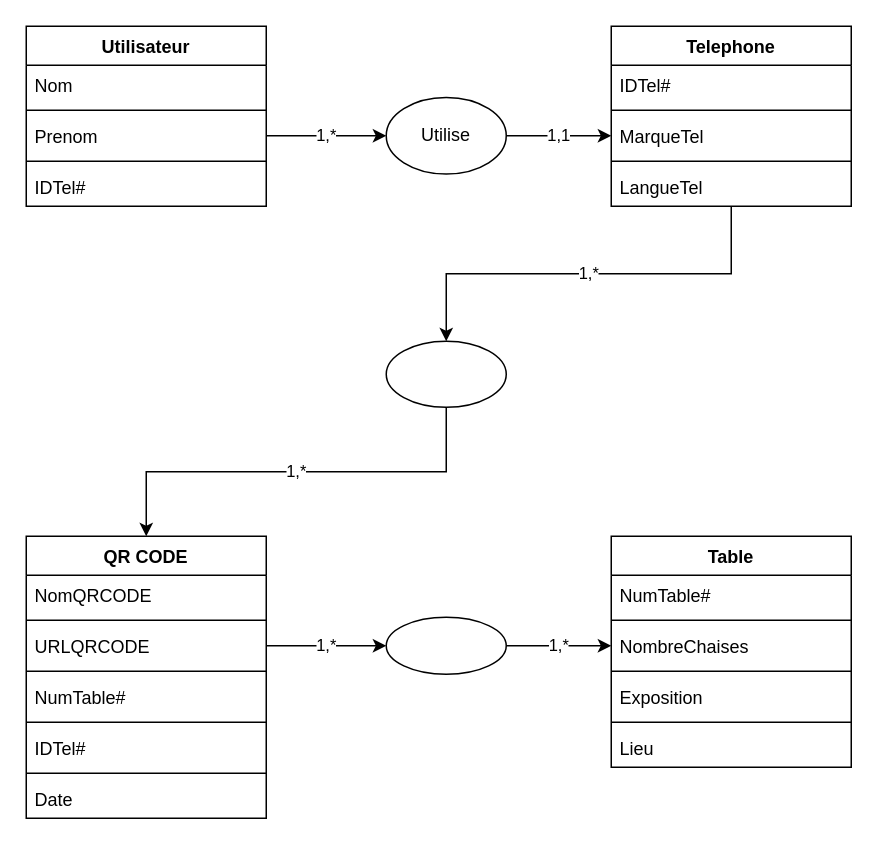
This 878x849 diagram has some shape labels left out. Here are the shapes that lost their labels. From the top down, the centre of each, then its label:
At (x=445, y=373): "Scanne".
At (x=445, y=645): "Se situe".
